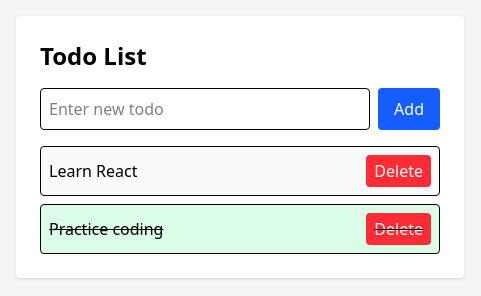
Test: TodoList Component Tests › deletes a todo when delete button is clicked
The image size is (481, 296).
Click the button with test id "delete-1" at (399, 171), box x1=366 y1=155 x2=431 y2=187
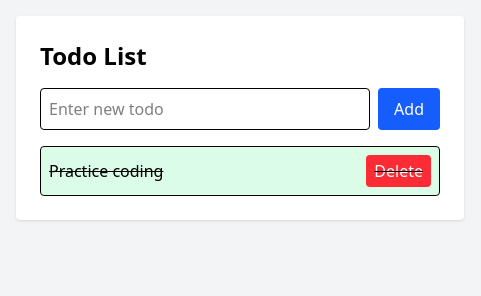
Expected: the text "Learn React" is gone
